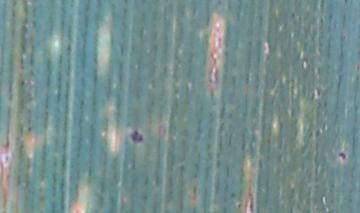tarspot: (131, 130, 144, 143), (338, 152, 347, 161), (237, 203, 242, 209)
